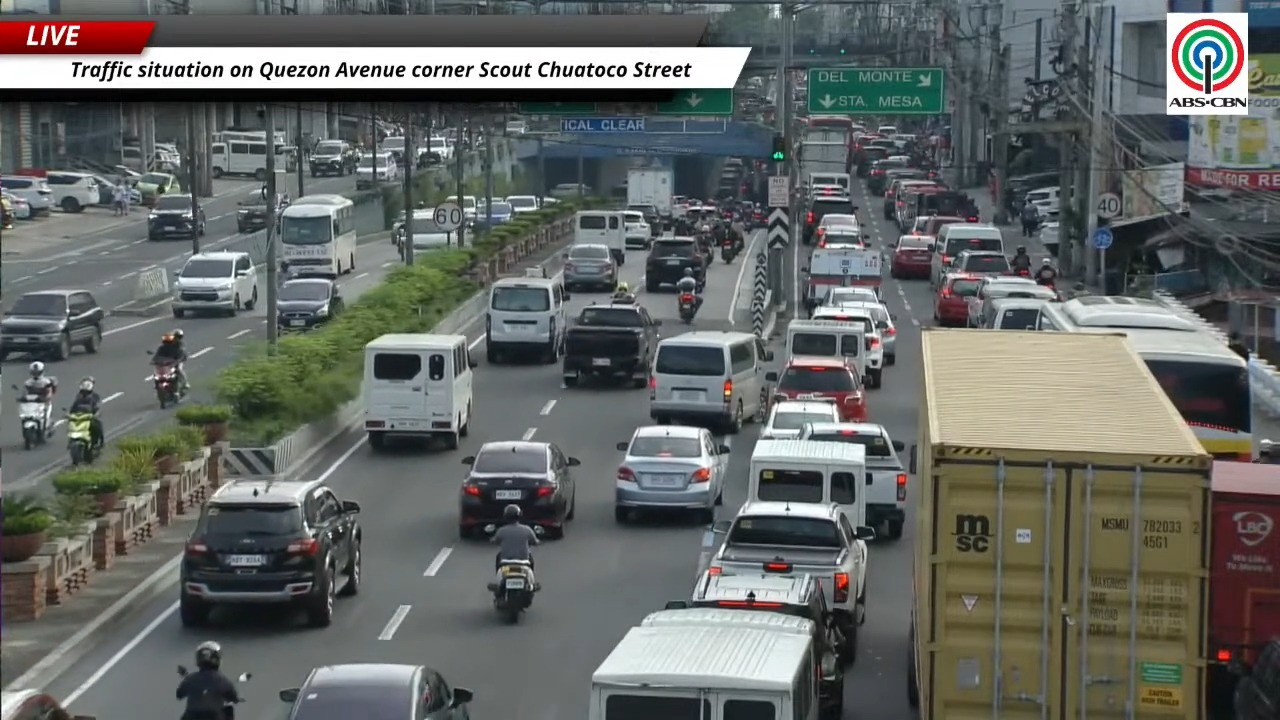bus: (1038, 296, 1252, 461), (279, 194, 356, 278), (209, 140, 267, 180), (210, 129, 265, 142)
car: (642, 573, 843, 718), (179, 478, 361, 626), (799, 423, 907, 538), (459, 441, 580, 538), (279, 663, 473, 719), (615, 426, 728, 522), (0, 289, 105, 359), (766, 356, 866, 421), (811, 302, 886, 387), (172, 252, 258, 317), (968, 276, 1058, 327), (839, 301, 896, 364), (277, 277, 343, 330), (645, 236, 707, 292), (760, 401, 839, 438), (0, 689, 95, 719), (886, 179, 940, 230), (147, 194, 205, 240), (975, 296, 1054, 329), (802, 195, 855, 244), (933, 273, 981, 326), (563, 244, 617, 291), (882, 168, 930, 219), (45, 171, 102, 212), (0, 175, 53, 215), (309, 139, 358, 176), (890, 235, 932, 278), (134, 171, 183, 205), (867, 156, 908, 195), (948, 250, 1010, 275), (237, 191, 270, 233), (815, 213, 861, 243), (919, 215, 966, 241), (822, 286, 879, 306), (623, 210, 652, 249), (476, 201, 514, 226), (0, 192, 31, 219), (504, 195, 540, 215)
motorcycle: (489, 560, 536, 623), (18, 393, 51, 449), (147, 363, 183, 409), (66, 412, 96, 466), (678, 293, 696, 323), (222, 697, 243, 719), (720, 240, 737, 262), (1035, 272, 1055, 288), (1012, 267, 1030, 277)
truck: (907, 328, 1211, 719), (708, 500, 874, 657), (1207, 461, 1279, 716), (562, 302, 660, 387), (802, 244, 883, 312), (627, 167, 674, 224), (798, 137, 848, 186)
